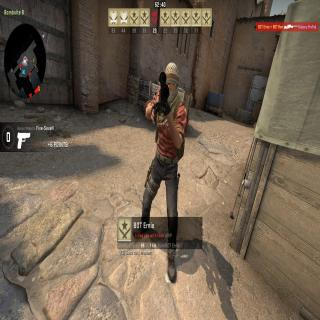T-Body: (137, 61, 190, 280)
T-Head: (160, 65, 180, 96)
